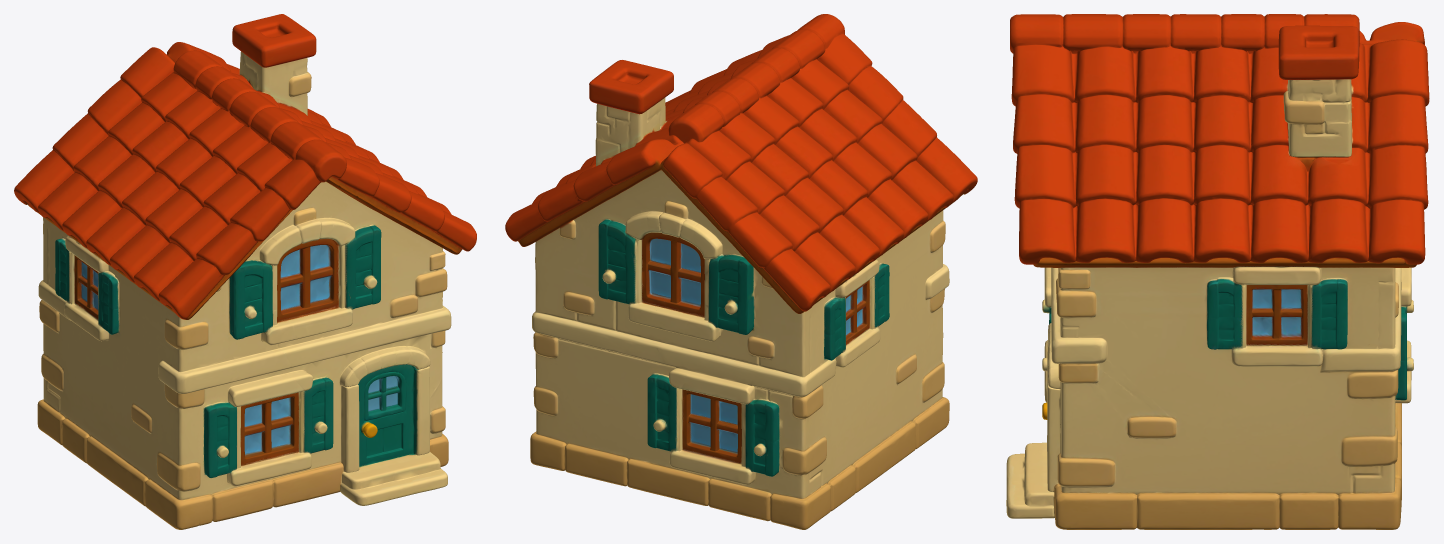
The model's file is StylizedHouse.fbx.
3 renders of one model, left to right at view 1: azimuth 30°, elevation 25°; view 2: azimuth 150°, elevation 25°; view 3: azimuth 270°, elevation 25°, orthographic. The views are drawn at different scales.
Visible parts, largest first — view 1: tripo_node_159f8e2b-a28a-4b43-b350-2ec1055933de; view 2: tripo_node_159f8e2b-a28a-4b43-b350-2ec1055933de; view 3: tripo_node_159f8e2b-a28a-4b43-b350-2ec1055933de.
Boxes of the visible parts, x1=… form: tripo_node_159f8e2b-a28a-4b43-b350-2ec1055933de: x1=14, y1=14, x2=476, y2=529; tripo_node_159f8e2b-a28a-4b43-b350-2ec1055933de: x1=505, y1=14, x2=977, y2=529; tripo_node_159f8e2b-a28a-4b43-b350-2ec1055933de: x1=1006, y1=14, x2=1429, y2=529.
Bounding box in the file's own units: 83.51 × 97.91 × 82.96.
